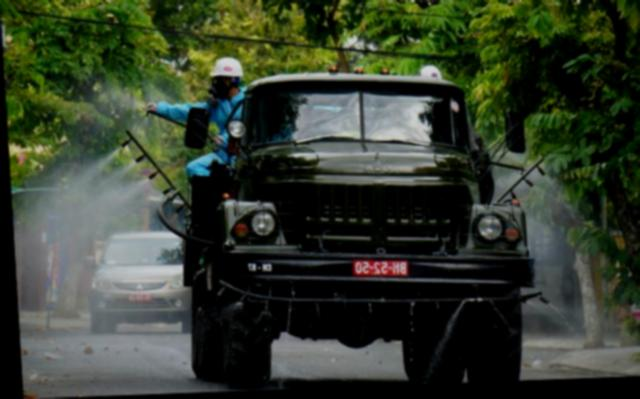License_Plate: (353, 256, 412, 280), (127, 292, 155, 303)
